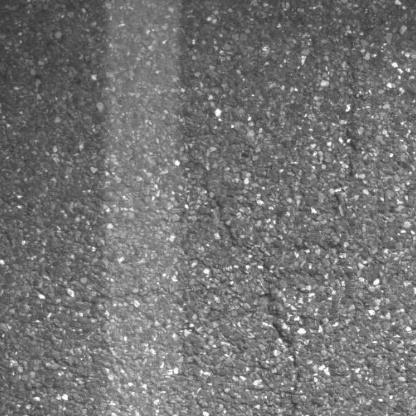Cracks: (199, 181, 307, 416)
